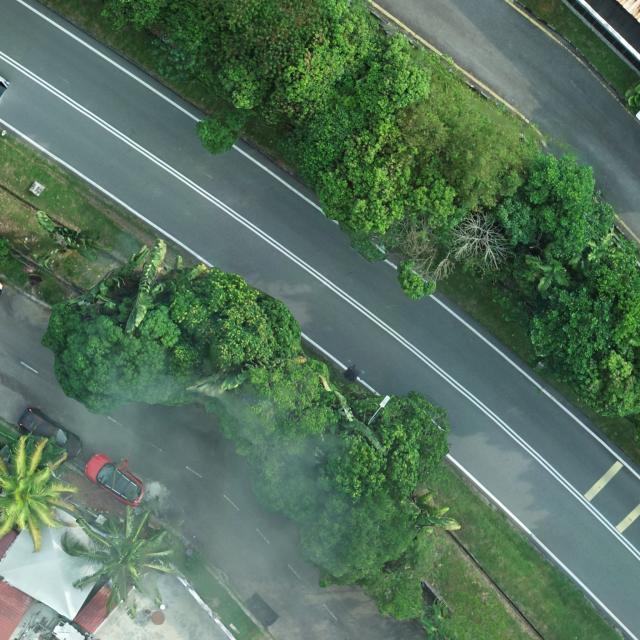banana_tree2: (67, 238, 211, 335)
tree: (315, 110, 523, 304), (206, 0, 382, 119), (528, 237, 640, 421), (215, 357, 344, 483), (166, 266, 305, 382), (41, 301, 180, 416), (315, 390, 453, 500), (59, 503, 178, 618), (495, 152, 618, 259), (297, 488, 423, 589), (0, 434, 78, 552), (276, 105, 370, 190), (353, 32, 430, 112), (359, 568, 430, 617)
